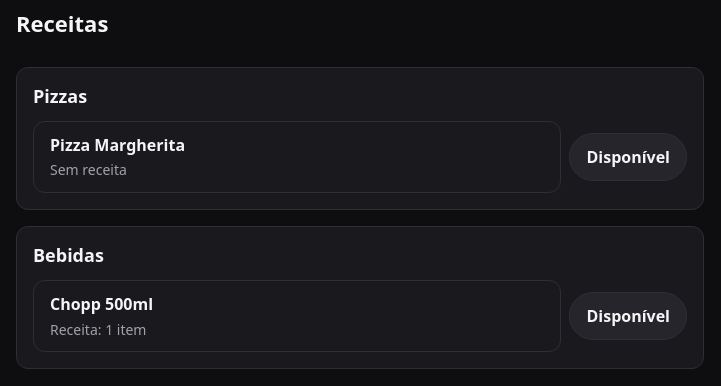
Receitas › esgotado alterna na lista de receitas
Step 1. Click the button with aria-label "Pizza Margherita esgotado" → (628, 157), box top-left (570, 133), bottom-right (687, 181)
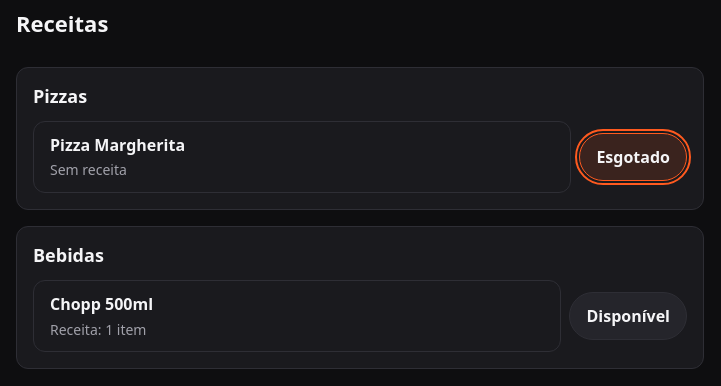
Expected: the text "Sem receita" is shown, top-left (50, 160), bottom-right (127, 180)
Expected: the button with aria-label "Pizza Margherita esgotado" is pressed, top-left (579, 133), bottom-right (687, 181)
